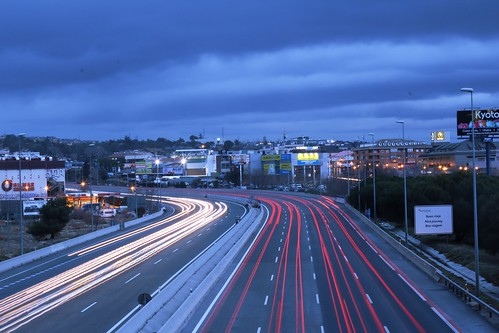building: (1, 150, 62, 212), (260, 145, 329, 184), (425, 140, 497, 172), (358, 137, 421, 172), (171, 151, 217, 179)
road: (1, 199, 457, 331)
sky: (1, 1, 490, 115)
